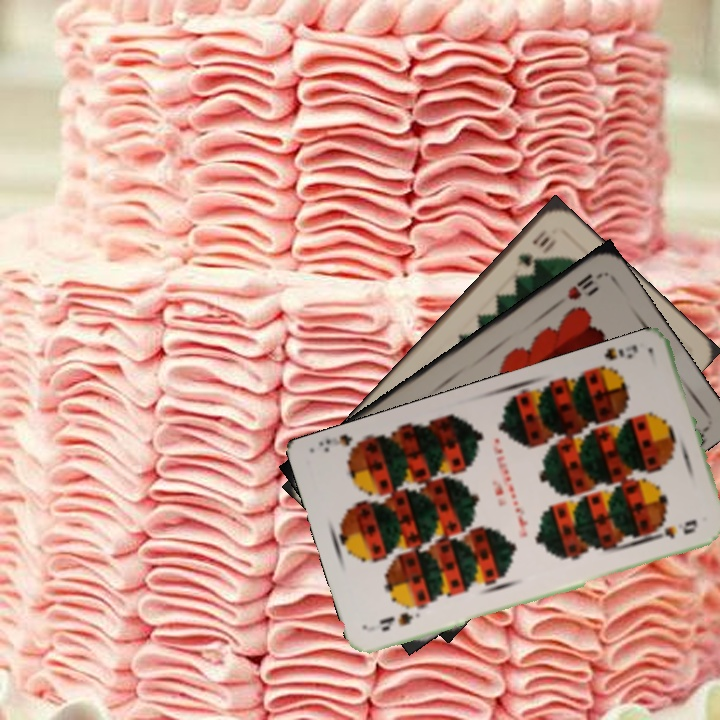G10: (512, 225, 553, 269)
H10: (563, 269, 597, 303)
S9: (590, 340, 641, 378), (375, 608, 423, 634)
